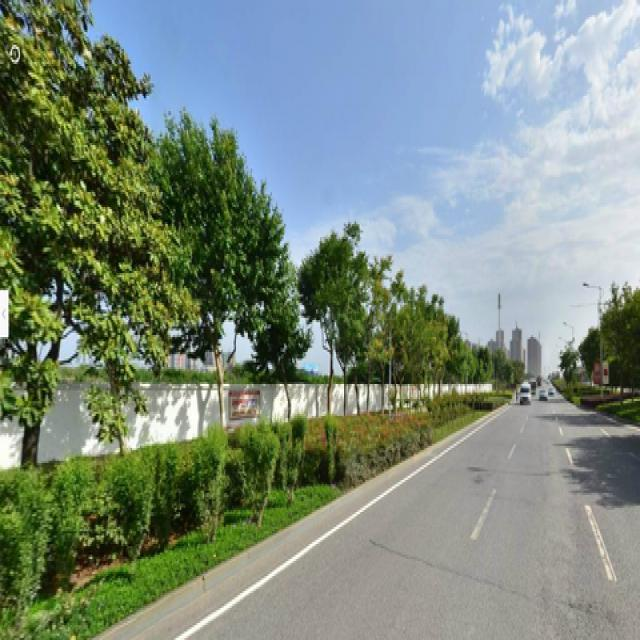meta: (173, 143, 270, 427)
